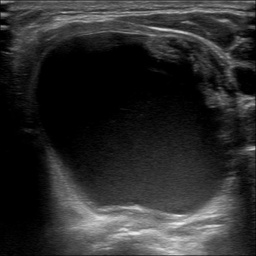mass: (36, 30, 232, 221)
